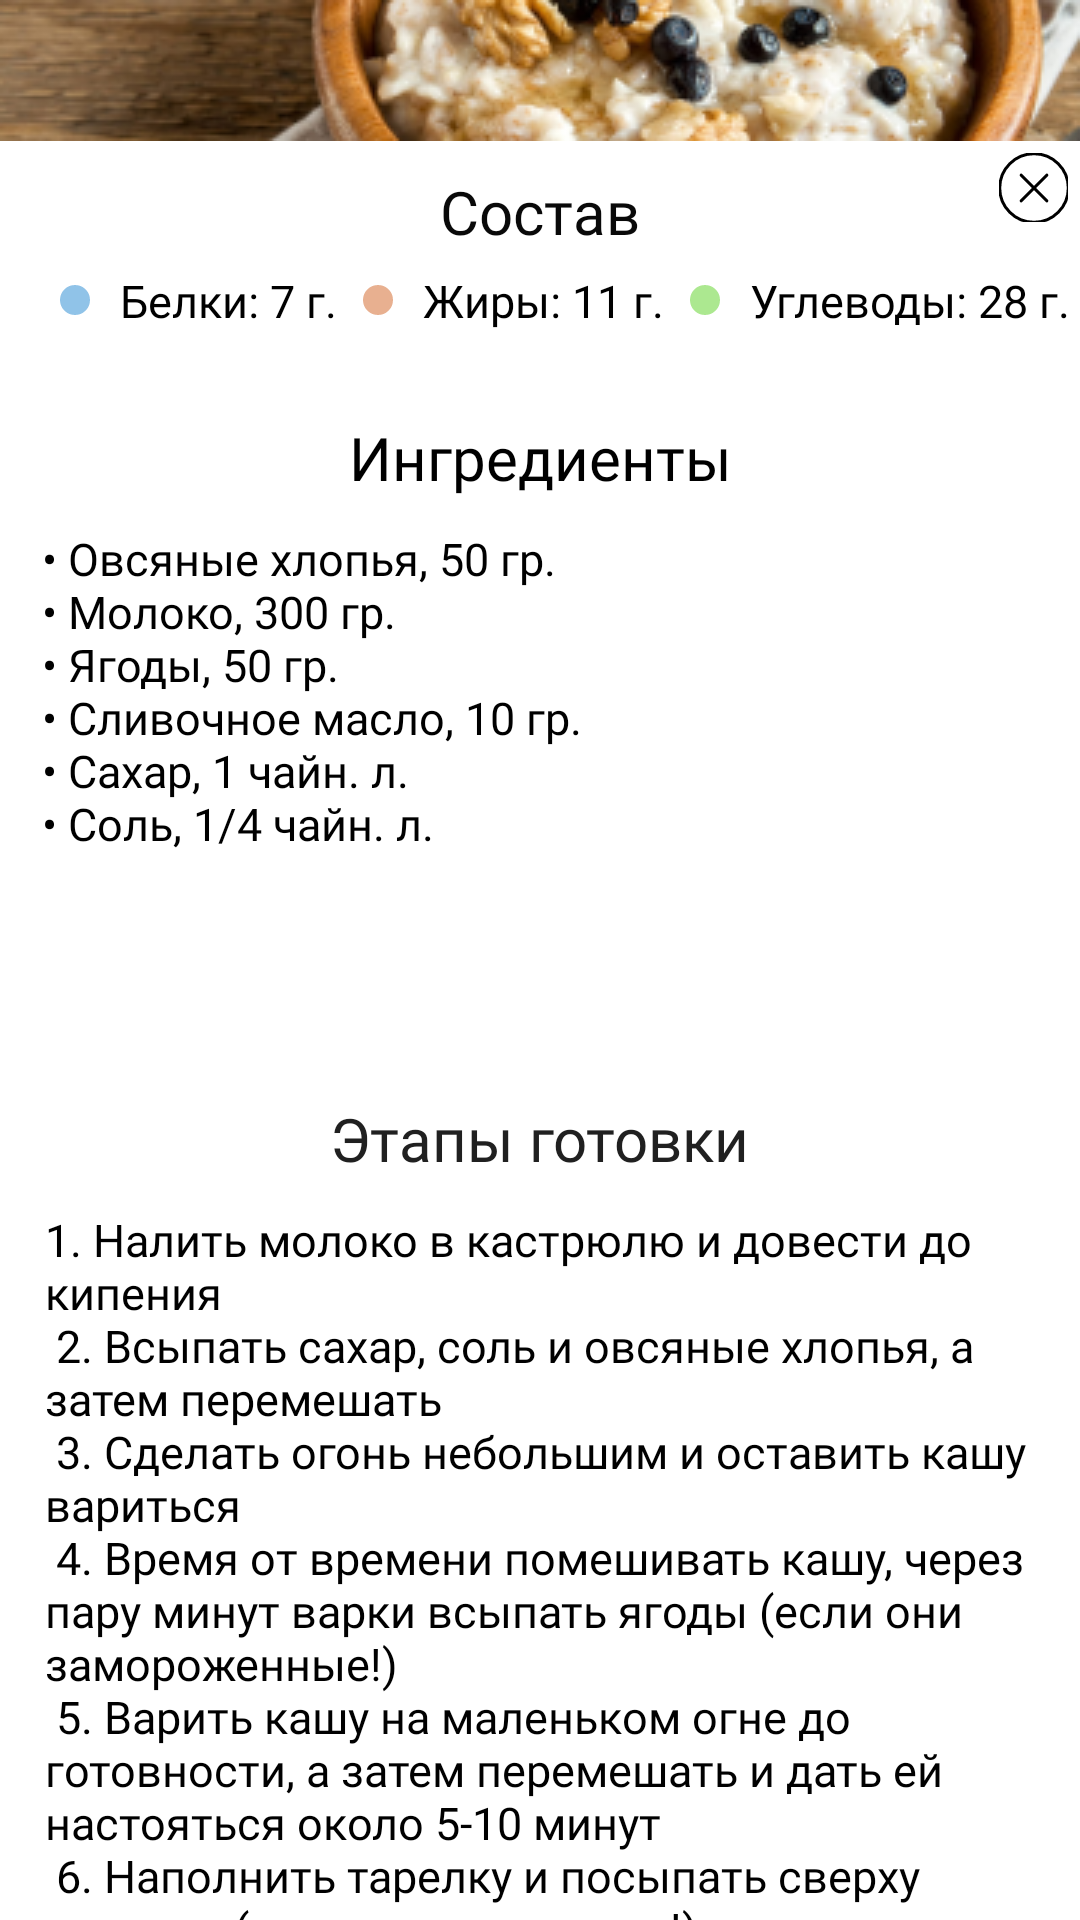

Where to tap for icons on this 1080w x 1920h app screen, as point (x, y):
exit krest: point (1033, 187)
